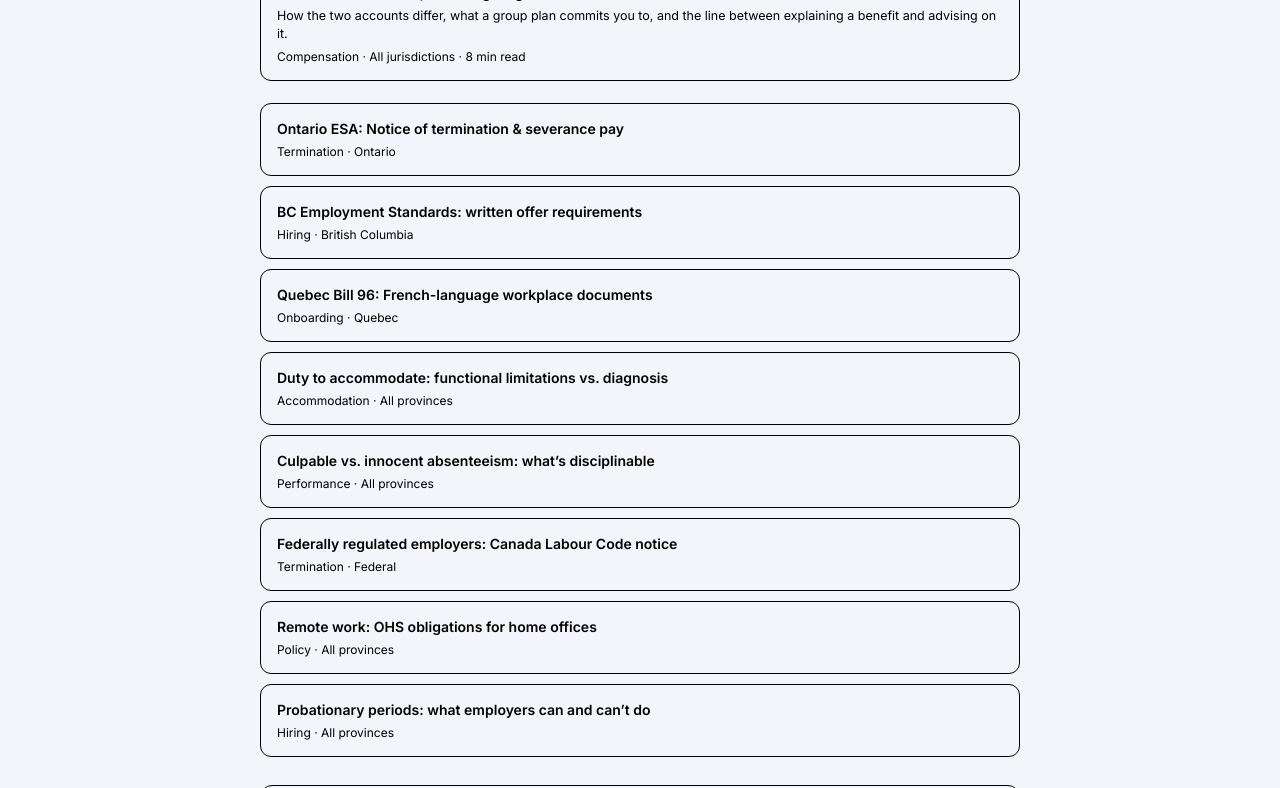
KnowledgeView › opens the Advisor rail on the article when clicked
(page scrolled)
What coordinates should you click on to do the following:
click the button "Duty to accommodate"
I would click on:
 (640, 388)
Its box is [260,352,1020,425].
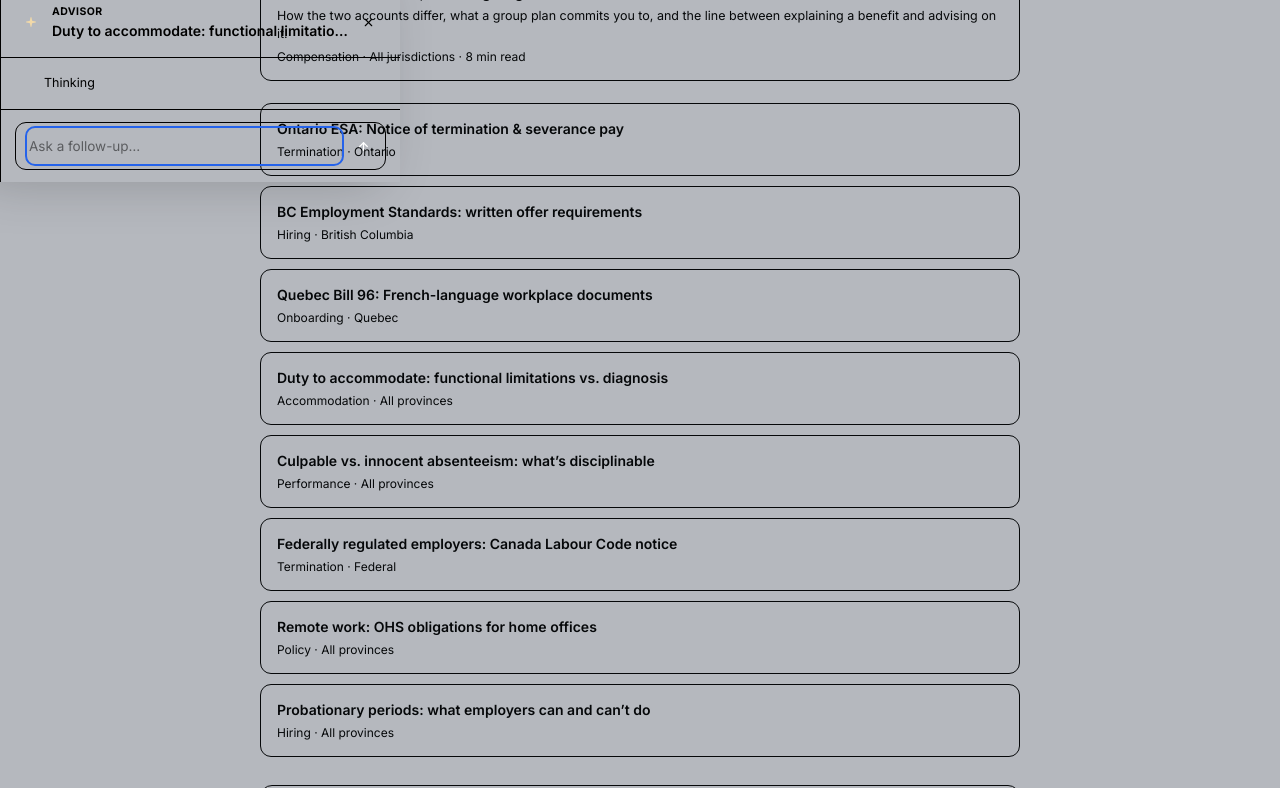
Expected: the text "Duty to accommodate: functional limitations vs. diagnosis" is shown, [52,20,354,41]
